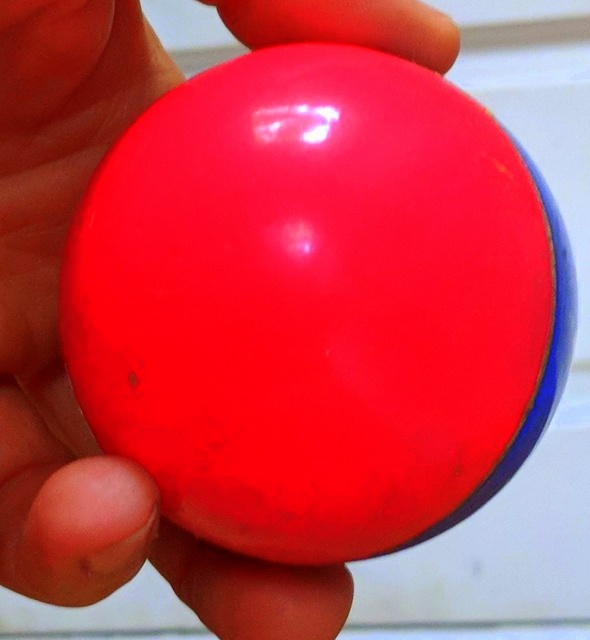ball: (49, 41, 557, 567)
